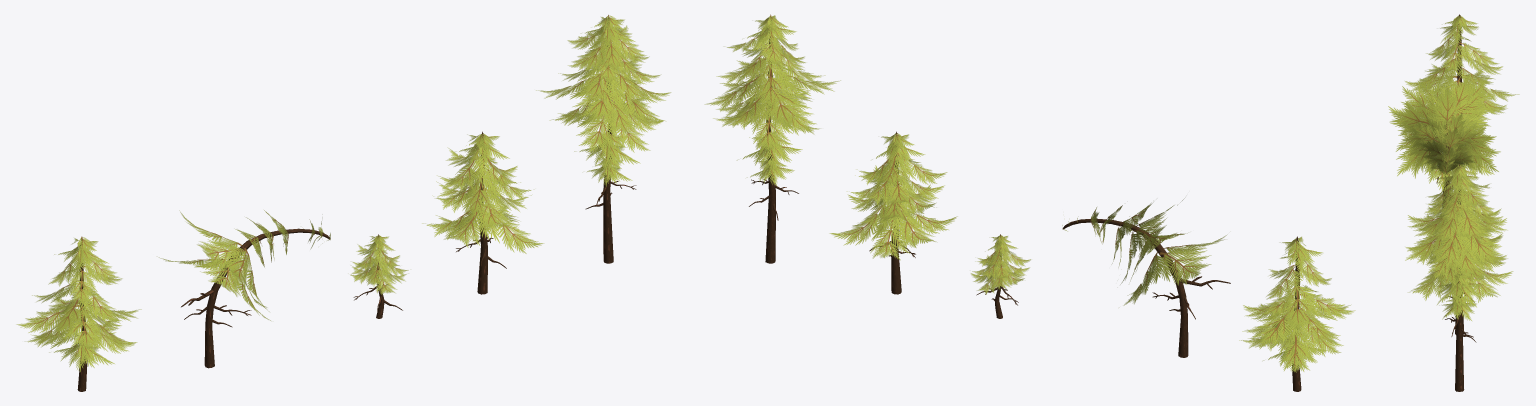
The model's file is PineTrees.glb.
3 views of the same model, side by side, from view 1: azimuth 30°, elevation 25°; view 2: azimuth 150°, elevation 25°; view 3: azimuth 270°, elevation 25° (orthographic). The views are drawn at different scales.
Visible parts, largest first — view 1: PineTree_2, PineTree_5, PineTree_1, PineTree_4, PineTree_3; view 2: PineTree_2, PineTree_1, PineTree_5, PineTree_4, PineTree_3; view 3: PineTree_2, PineTree_4, PineTree_5, PineTree_1.
Part boxes in pixels (x1,y1,x2,y2): PineTree_2: (536,15,671,263); PineTree_5: (16,236,141,391); PineTree_1: (422,131,543,294); PineTree_4: (159,210,330,368); PineTree_3: (350,234,408,318); PineTree_2: (704,14,840,263); PineTree_1: (829,131,957,294); PineTree_5: (1239,236,1355,391); PineTree_4: (1062,198,1230,357); PineTree_3: (970,234,1030,318); PineTree_2: (1405,164,1507,391); PineTree_4: (1388,73,1500,208); PineTree_5: (1405,14,1519,129); PineTree_1: (1407,192,1513,334).
Size of the model in its own units: 18.69 by 6.92 by 3.74.
2 materials, 2 textured.
